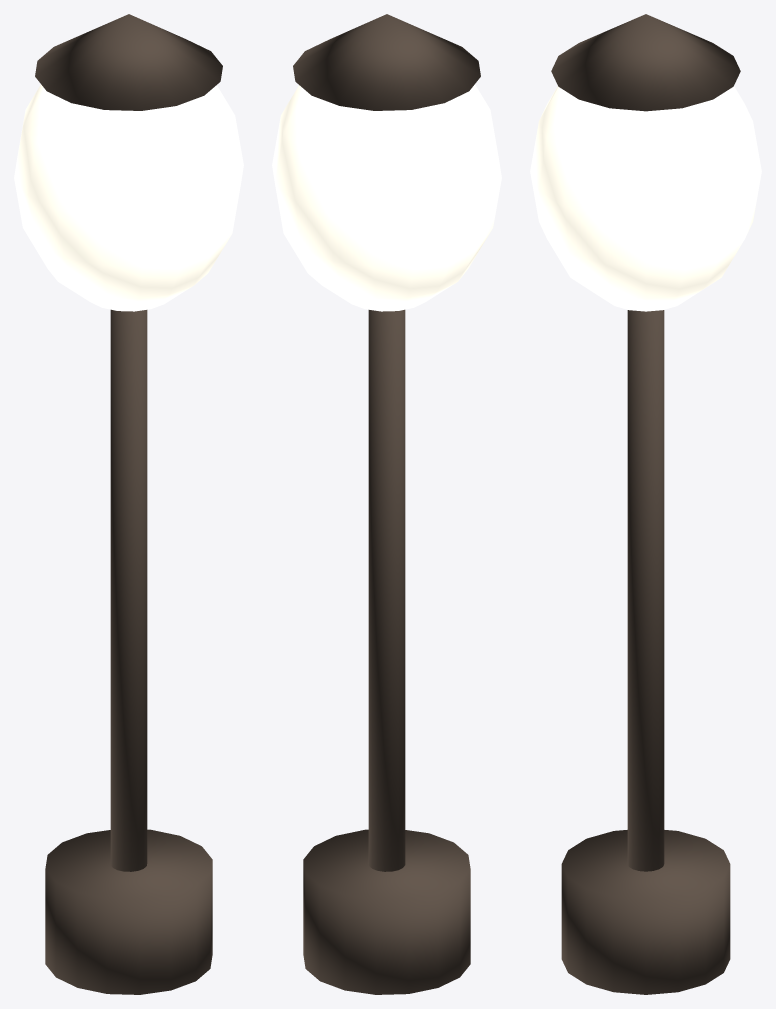
The model's file is prop_bonbori.glb.
3 views of the same model, side by side, from view 1: azimuth 30°, elevation 25°; view 2: azimuth 150°, elevation 25°; view 3: azimuth 270°, elevation 25° (orthographic).
Parts seen in each view (by area): view 1: bonbori; view 2: bonbori; view 3: bonbori.
Part boxes in pixels (x1,y1,x2,y2): bonbori: (14,14,243,994); bonbori: (272,14,501,994); bonbori: (530,14,761,994).
Size of the model in its own units: 0.44 by 1.98 by 0.44.
